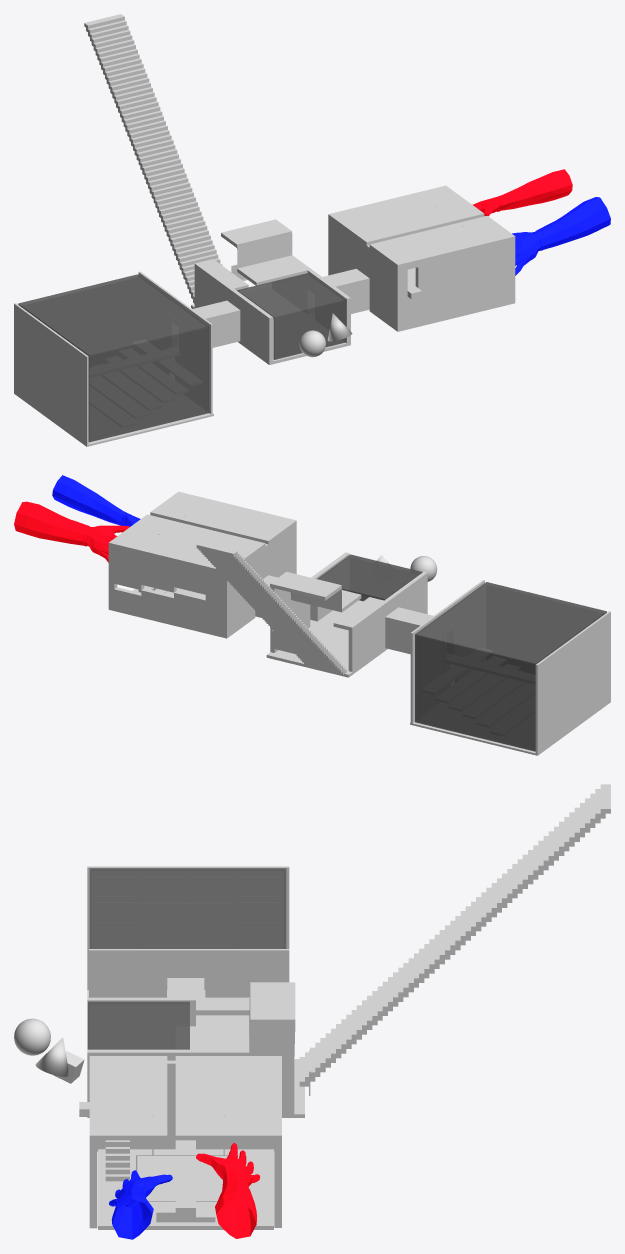
Rendered from FinalNoTex.glb.
3 renders of one model, top to bottom at view 1: azimuth 30°, elevation 25°; view 2: azimuth 150°, elevation 25°; view 3: azimuth 270°, elevation 25°, orthographic. The views are drawn at different scales.
Parts seen in each view (by area): view 1: Cube.016; view 2: Cube.016; view 3: Cube.016.
Boxes of the visible parts, box(x1,y1,x2,y2) form: Cube.016: box(14, 14, 610, 446); Cube.016: box(14, 475, 610, 755); Cube.016: box(14, 784, 610, 1239).
Size of the model in its own units: 165 by 70.83 by 115.
